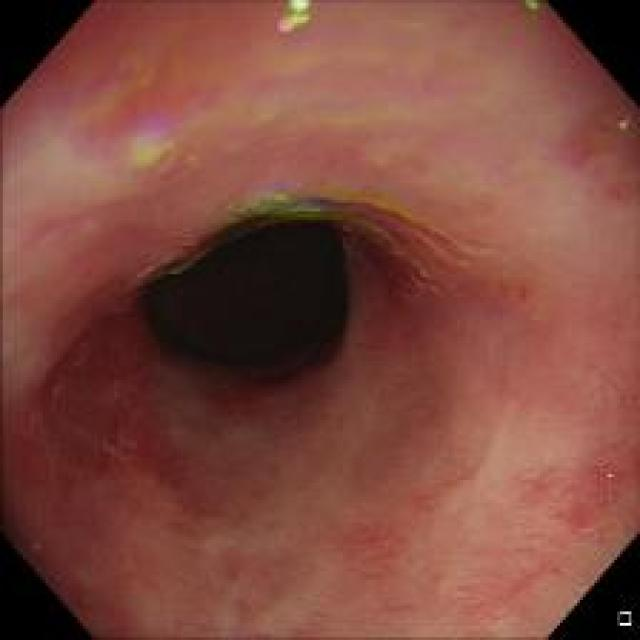color misalignment: (201, 181, 469, 290), (114, 105, 196, 172), (145, 230, 211, 282), (274, 2, 312, 29), (611, 110, 632, 139), (519, 0, 546, 16)
contrast: (135, 199, 366, 399)
